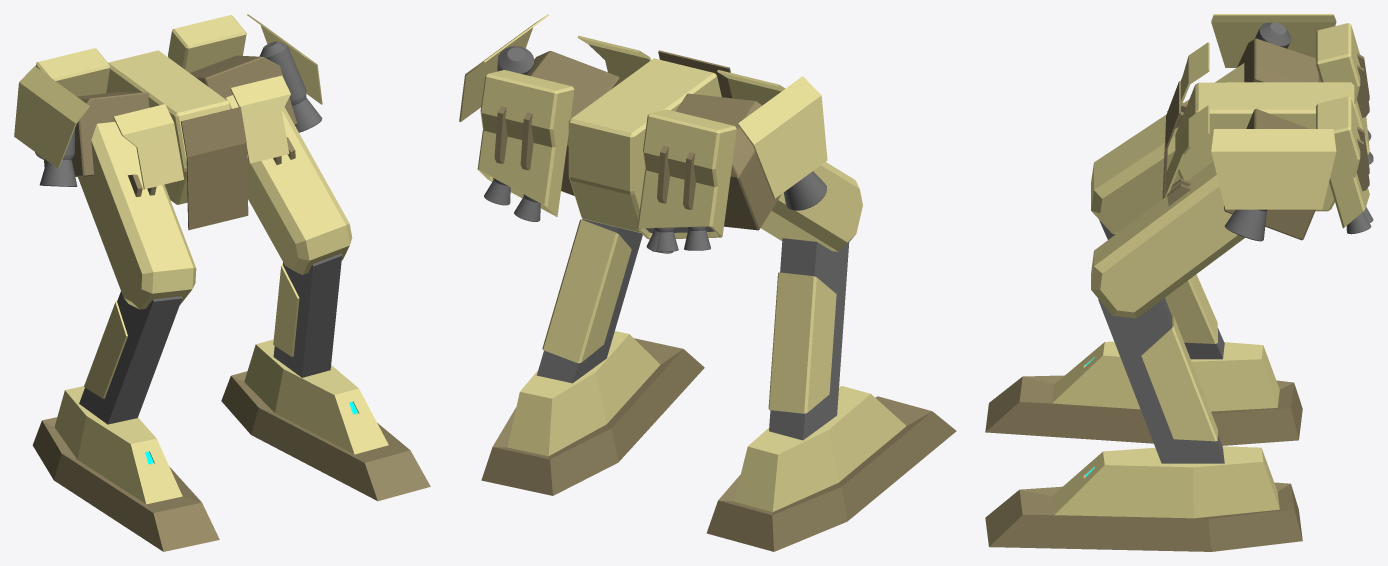
The model's file is LegsBackward.fbx.
The picture shows the model from 3 angles, left to right: view 1: azimuth 30°, elevation 25°; view 2: azimuth 150°, elevation 25°; view 3: azimuth 270°, elevation 25°; orthographic projection. The views are drawn at different scales.
Parts seen in each view (by area): view 1: pasted__pCube47, pasted__pCube48, pasted__pCube37, pasted__pCube31, pasted__pasted__pCube36, pasted__pCube38, pasted__pasted__pCube32, pasted__pCube32, pasted__pPlane1, pasted__pPlane4, pasted__pPlane3, pasted__pCube33 (×2) (+7 smaller); view 2: pasted__pCube48, pasted__pCube47, pasted__pCube33 (×2), pasted__pasted__pCube32, pasted__pCube43, pasted__pCube39, pasted__pPlane1, pasted__pCube38, pasted__pasted__pCube40, pasted__pCube37, pasted__pasted__pCube39, pasted__pCube32 (+8 smaller); view 3: pasted__pCube47, pasted__pCube48, pasted__pCube31, pasted__pPlane2, pasted__pCube33 (×2), pasted__pasted__pCube32, pasted__pCube37, pasted__pCube32, pasted__pCube43, pasted__pPlane1, pasted__pCube39, pasted__pasted__pCube40 (+9 smaller).
Boxes of the visible parts, x1,y1,x2,y2 form: pasted__pCube47: (221,339,430,500); pasted__pCube48: (32,386,219,551); pasted__pCube37: (78,121,196,309); pasted__pCube31: (226,95,352,275); pasted__pasted__pCube36: (180,107,248,230); pasted__pCube38: (79,291,182,424); pasted__pasted__pCube32: (106,50,230,204); pasted__pCube32: (273,253,341,377); pasted__pPlane1: (14,66,89,168); pasted__pPlane4: (113,104,184,189); pasted__pPlane3: (230,75,290,163); pasted__pCube33 (×2): (84,263,299,398); pasted__pCube48: (706,386,956,551); pasted__pCube47: (481,331,704,495); pasted__pCube33 (×2): (542,219,836,413); pasted__pasted__pCube32: (568,58,721,232); pasted__pCube43: (477,70,574,216); pasted__pCube39: (637,109,736,239); pasted__pPlane1: (737,76,827,198); pasted__pCube38: (769,238,849,440); pasted__pasted__pCube40: (676,93,781,230); pasted__pCube37: (761,162,862,251); pasted__pasted__pCube39: (526,51,619,195); pasted__pCube32: (536,219,642,383); pasted__pCube47: (985,446,1302,551); pasted__pCube48: (985,341,1302,445); pasted__pCube31: (1091,161,1244,318); pasted__pPlane2: (1211,129,1336,209); pasted__pCube33 (×2): (1141,274,1217,441); pasted__pasted__pCube32: (1175,82,1354,211); pasted__pCube37: (1091,63,1244,234); pasted__pCube32: (1098,298,1224,463); pasted__pCube43: (1316,96,1369,228); pasted__pPlane1: (1211,14,1336,67); pasted__pCube39: (1316,23,1369,154); pasted__pasted__pCube40: (1237,38,1320,82).
Bounding box in the file's own units: 12.26 × 15 × 13.08.
